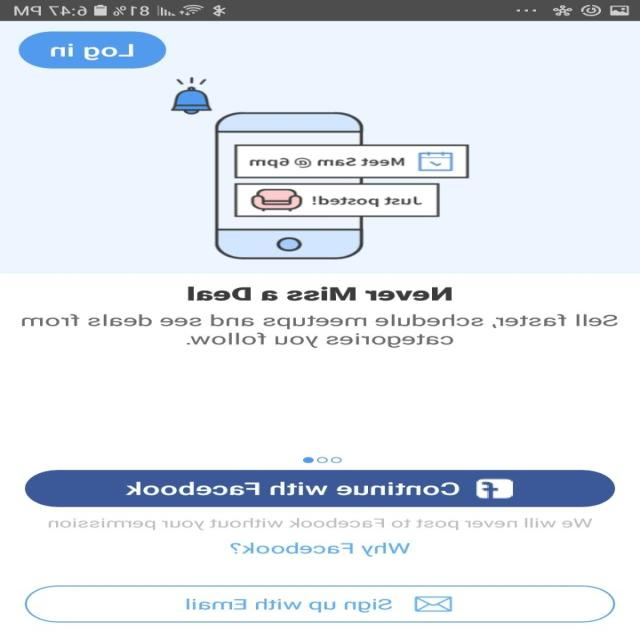Image: (170, 76, 470, 260)
Text: (22, 313, 619, 348), (49, 517, 593, 531), (188, 286, 452, 301), (230, 542, 410, 556)
TextButton: (25, 584, 615, 622), (26, 469, 616, 506), (19, 31, 168, 69)
